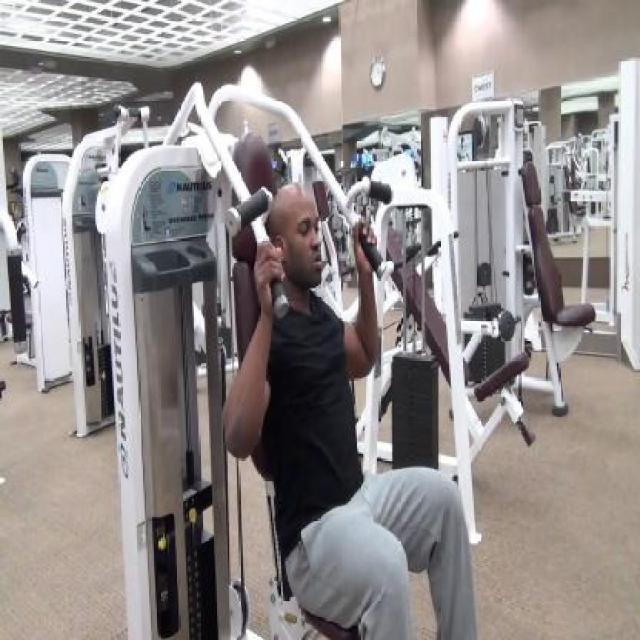shoulder press machine: (103, 81, 392, 640)
